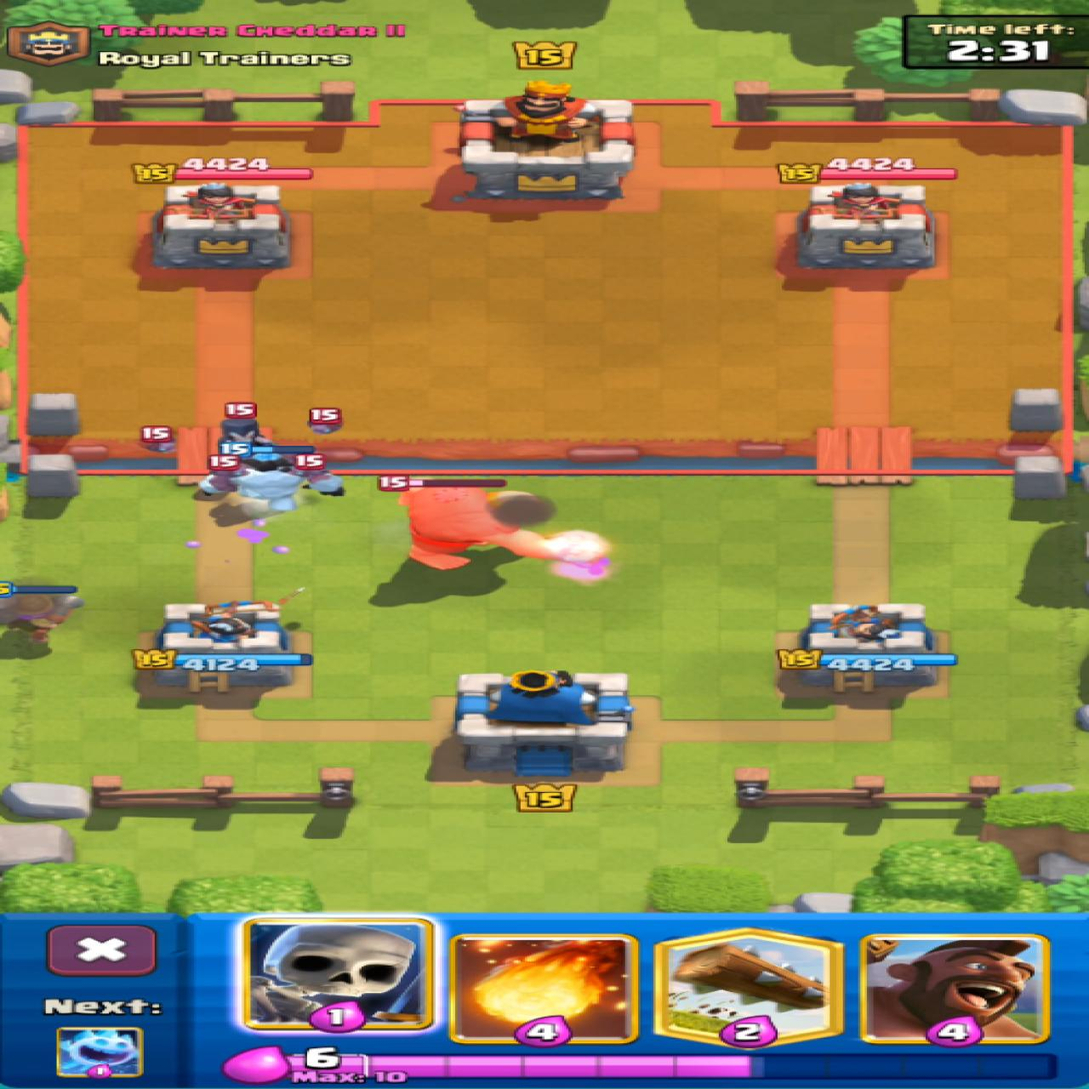Enemy-Bat: (198, 455, 246, 494), (296, 454, 327, 480), (309, 408, 340, 434), (139, 427, 172, 451)
Enemy-Giant: (401, 482, 605, 570)
Enemy-KingTower: (457, 81, 634, 198)
Enemy-NightWitch: (155, 182, 290, 268), (222, 419, 261, 442)
Enemy-PrincessTower: (152, 182, 290, 266), (797, 185, 932, 268)
